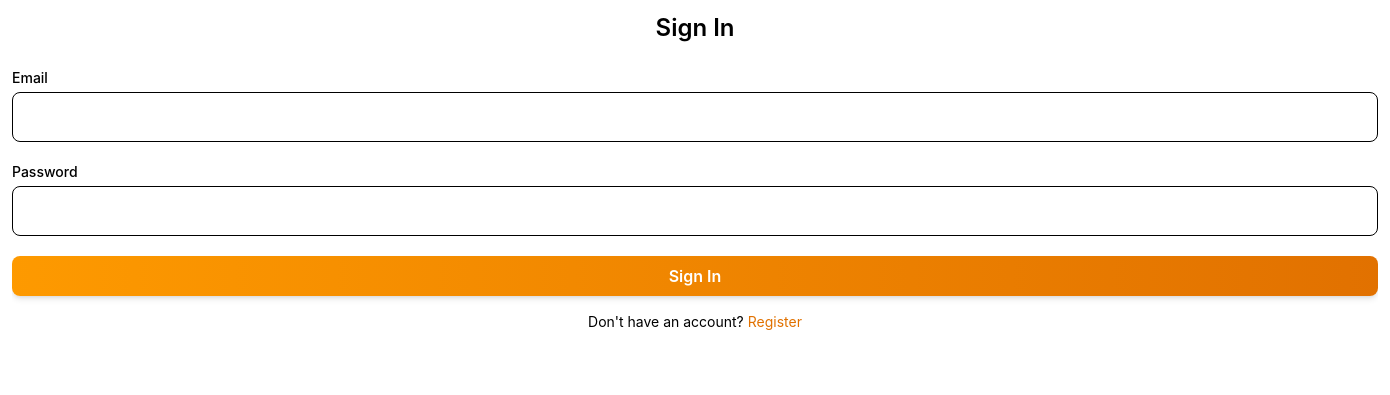
Scenario: Login › Form validation › shows error for invalid email format
The image size is (1390, 395).
# Type invalid email
Type "notanemail" into the field labelled "Email".
click(695, 117); type("notanemail")  # box [12,92,1378,142]
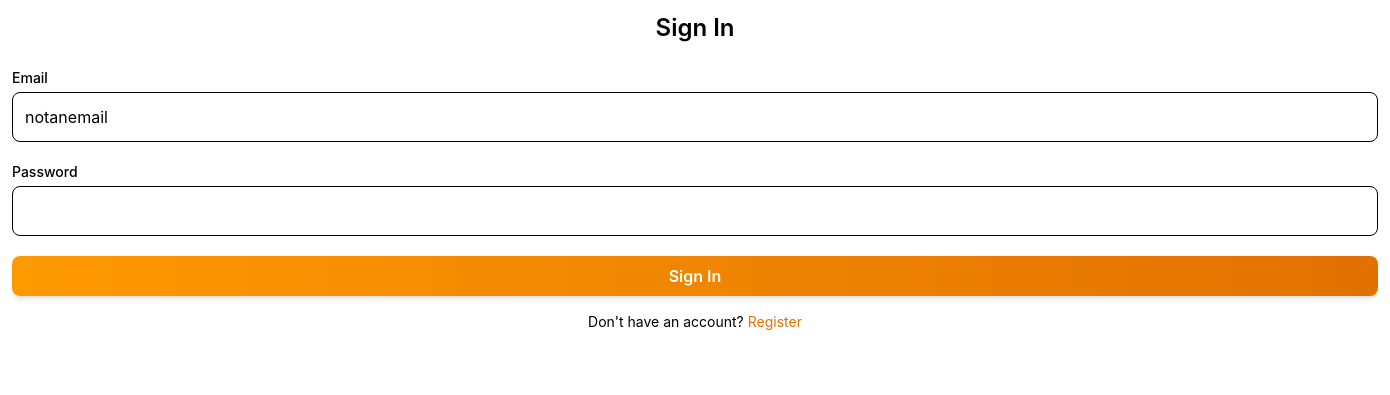
Click the button "Sign In".
click(695, 276)  # box [12,256,1378,296]
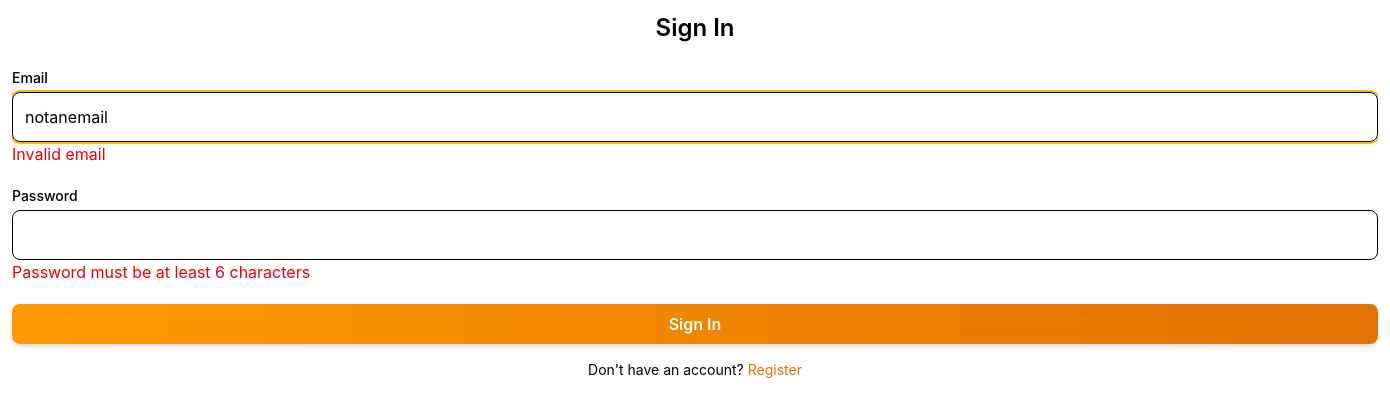
Result: the text "Invalid email" is shown at [12,144,106,164]
